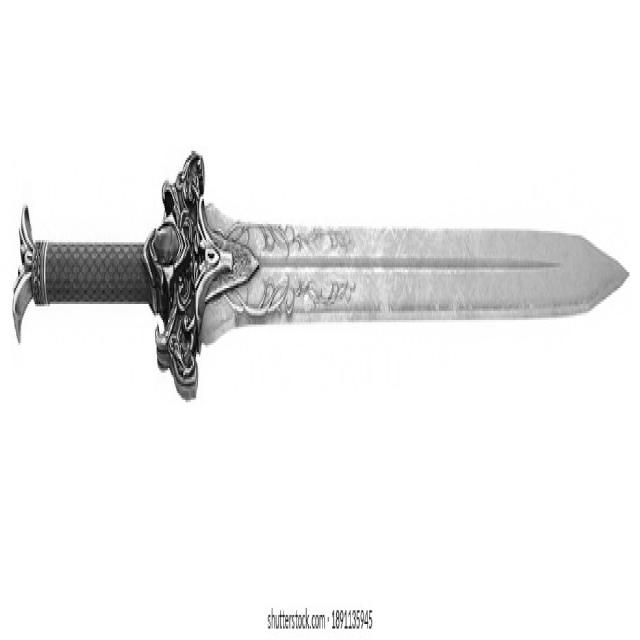Knife: (5, 133, 640, 476)
